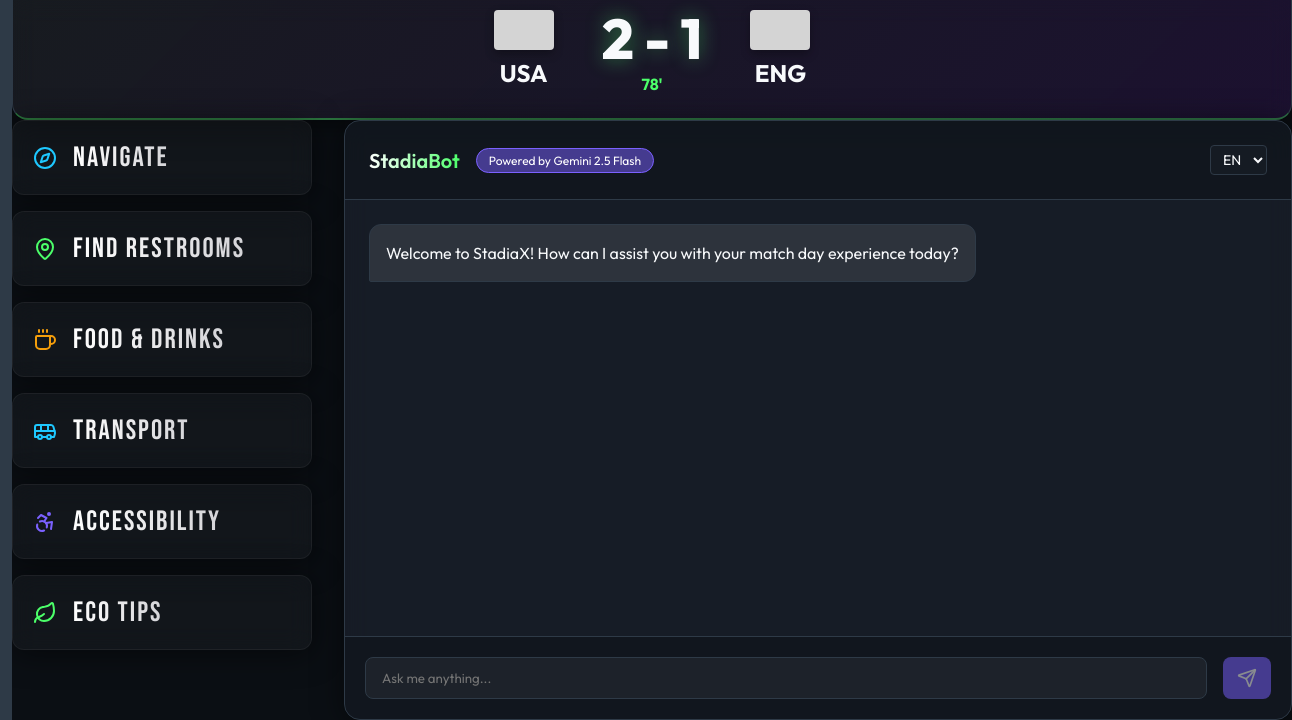
Test case: FanView Component › submits a message and handles successful API response
(page scrolled)
Type "Where is the restroom?" into the field with placeholder "Ask me anything...".
click(786, 678); type("Where is the restroom?")  # box top-left (365, 657), bottom-right (1207, 699)
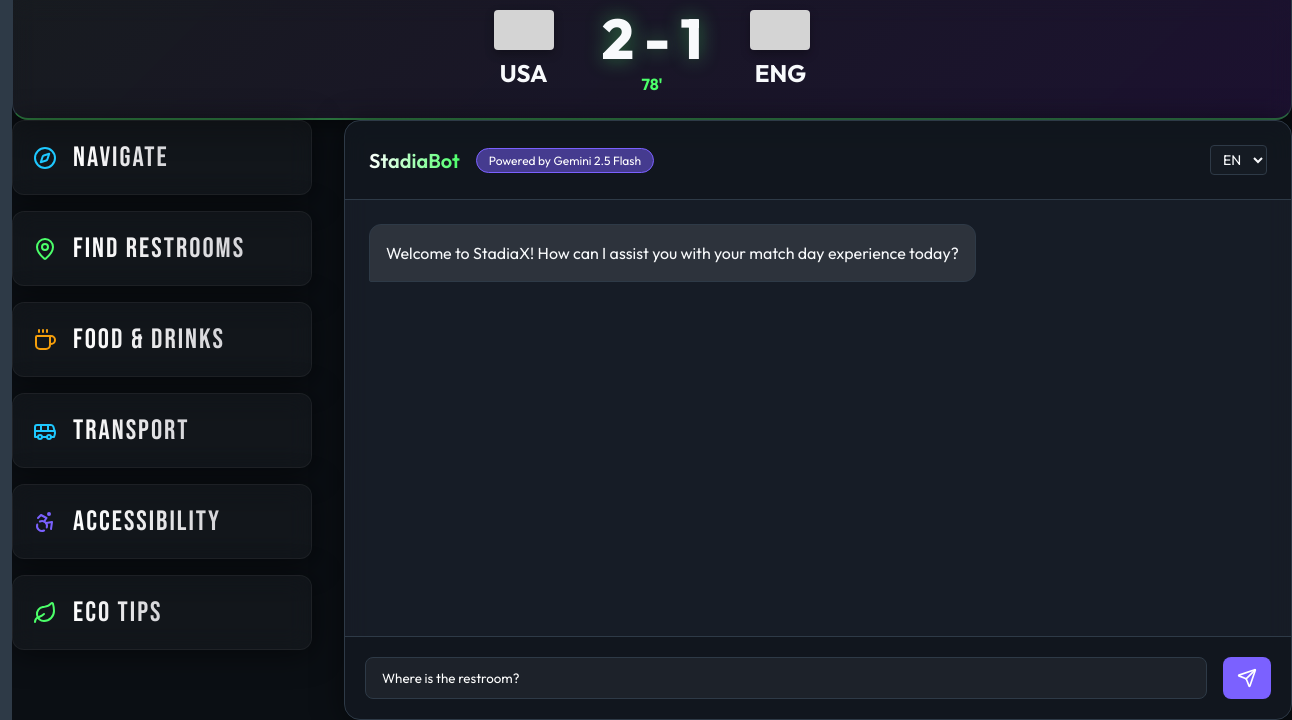
Click the button named "Send message".
click(1247, 678)  # box top-left (1223, 657), bottom-right (1271, 699)
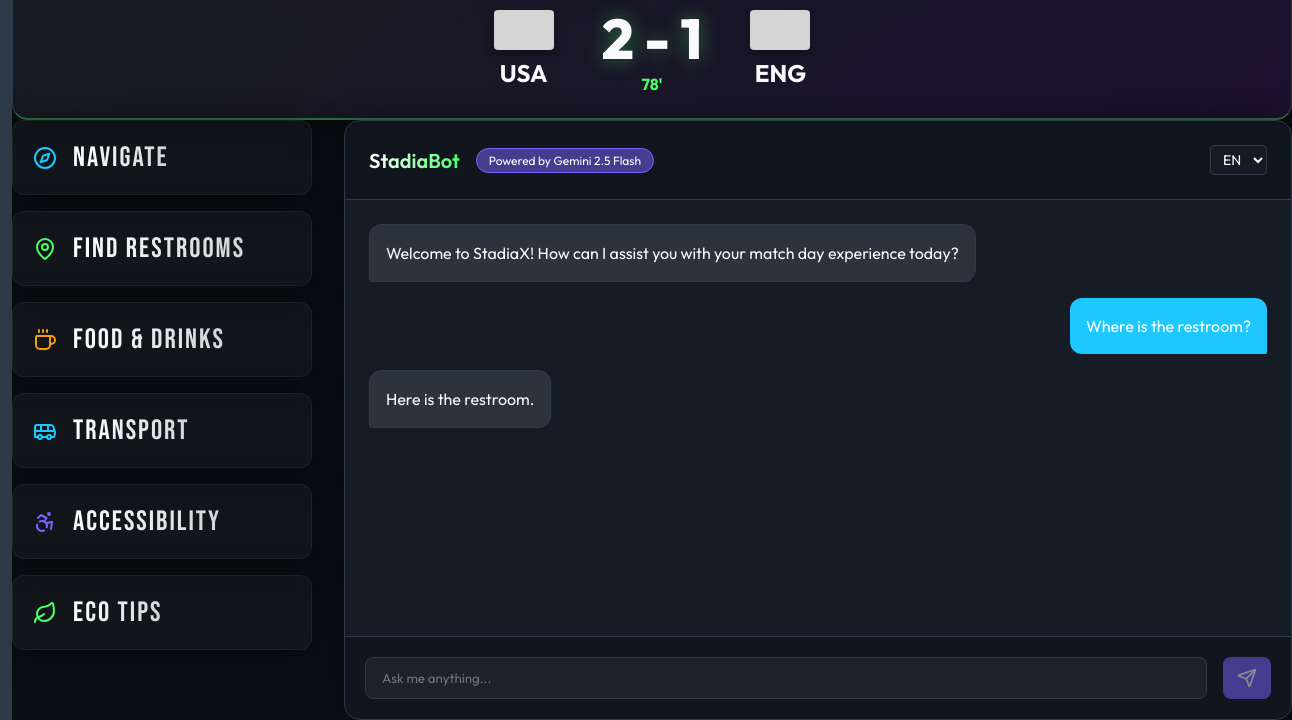
Now the text "Where is the restroom?" is shown, box top-left (1070, 298), bottom-right (1267, 354)
Now the text "Here is the restroom." is shown, box top-left (369, 370), bottom-right (551, 428)
